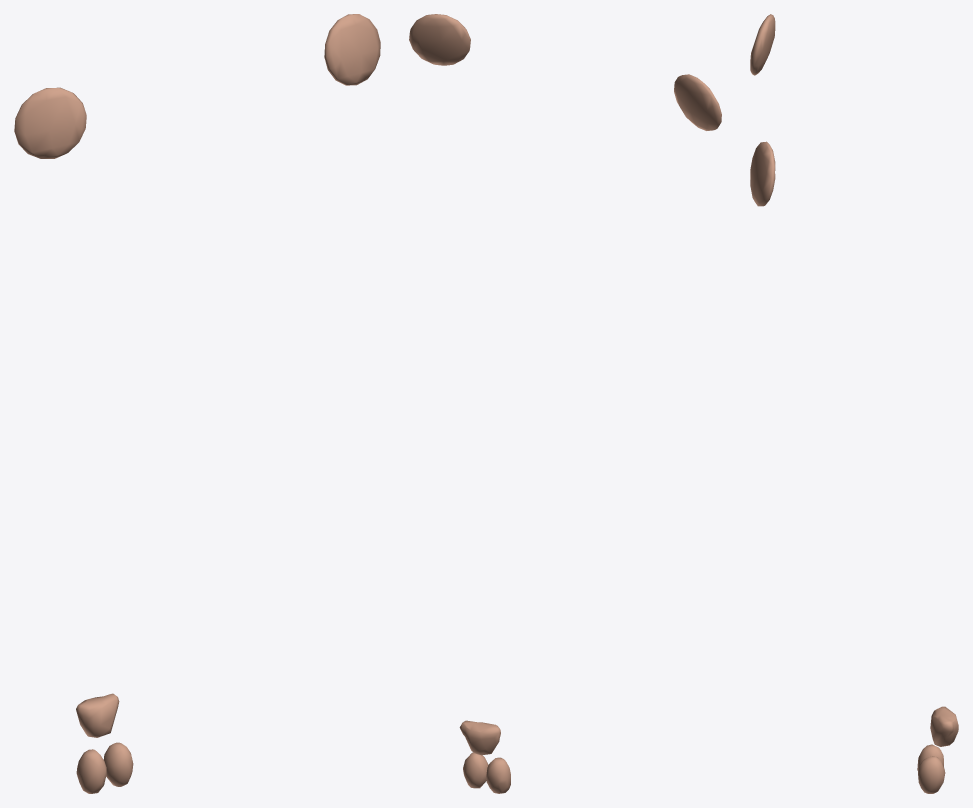
The model's file is pediatric_child_5y_male.reproductive.LOD2.glb.
3 views of the same model, side by side, from view 1: azimuth 30°, elevation 25°; view 2: azimuth 150°, elevation 25°; view 3: azimuth 270°, elevation 25° (orthographic). The views are drawn at different scales.
Visible parts, largest first — view 1: PEDIATRIC.CHILD_5Y.MALE.REPRODUCTIVE.BREAST_ADIPOSE_TISSUE.R, PEDIATRIC.CHILD_5Y.MALE.REPRODUCTIVE.BREAST_ADIPOSE_TISSUE.L, PEDIATRIC.CHILD_5Y.MALE.REPRODUCTIVE.PROSTATE, PEDIATRIC.CHILD_5Y.MALE.REPRODUCTIVE.TESTIS.R, PEDIATRIC.CHILD_5Y.MALE.REPRODUCTIVE.TESTIS.L; view 2: PEDIATRIC.CHILD_5Y.MALE.REPRODUCTIVE.BREAST_ADIPOSE_TISSUE.L, PEDIATRIC.CHILD_5Y.MALE.REPRODUCTIVE.BREAST_ADIPOSE_TISSUE.R, PEDIATRIC.CHILD_5Y.MALE.REPRODUCTIVE.PROSTATE, PEDIATRIC.CHILD_5Y.MALE.REPRODUCTIVE.TESTIS.R, PEDIATRIC.CHILD_5Y.MALE.REPRODUCTIVE.TESTIS.L; view 3: PEDIATRIC.CHILD_5Y.MALE.REPRODUCTIVE.BREAST_ADIPOSE_TISSUE.L, PEDIATRIC.CHILD_5Y.MALE.REPRODUCTIVE.BREAST_ADIPOSE_TISSUE.R, PEDIATRIC.CHILD_5Y.MALE.REPRODUCTIVE.PROSTATE, PEDIATRIC.CHILD_5Y.MALE.REPRODUCTIVE.TESTIS.L.
Part boxes in pixels (x1,y1,x2,y2): PEDIATRIC.CHILD_5Y.MALE.REPRODUCTIVE.BREAST_ADIPOSE_TISSUE.R: [14, 87, 86, 158]; PEDIATRIC.CHILD_5Y.MALE.REPRODUCTIVE.BREAST_ADIPOSE_TISSUE.L: [324, 14, 380, 85]; PEDIATRIC.CHILD_5Y.MALE.REPRODUCTIVE.PROSTATE: [76, 693, 119, 737]; PEDIATRIC.CHILD_5Y.MALE.REPRODUCTIVE.TESTIS.R: [76, 749, 106, 793]; PEDIATRIC.CHILD_5Y.MALE.REPRODUCTIVE.TESTIS.L: [103, 742, 133, 786]; PEDIATRIC.CHILD_5Y.MALE.REPRODUCTIVE.BREAST_ADIPOSE_TISSUE.L: [409, 14, 470, 65]; PEDIATRIC.CHILD_5Y.MALE.REPRODUCTIVE.BREAST_ADIPOSE_TISSUE.R: [674, 74, 721, 130]; PEDIATRIC.CHILD_5Y.MALE.REPRODUCTIVE.PROSTATE: [459, 720, 500, 755]; PEDIATRIC.CHILD_5Y.MALE.REPRODUCTIVE.TESTIS.R: [486, 757, 510, 793]; PEDIATRIC.CHILD_5Y.MALE.REPRODUCTIVE.TESTIS.L: [463, 752, 488, 788]; PEDIATRIC.CHILD_5Y.MALE.REPRODUCTIVE.BREAST_ADIPOSE_TISSUE.L: [750, 141, 775, 206]; PEDIATRIC.CHILD_5Y.MALE.REPRODUCTIVE.BREAST_ADIPOSE_TISSUE.R: [750, 14, 775, 75]; PEDIATRIC.CHILD_5Y.MALE.REPRODUCTIVE.PROSTATE: [930, 706, 958, 746]; PEDIATRIC.CHILD_5Y.MALE.REPRODUCTIVE.TESTIS.L: [918, 756, 945, 793].
Bounding box in the file's own units: 0.1449 × 0.305 × 0.0815.
